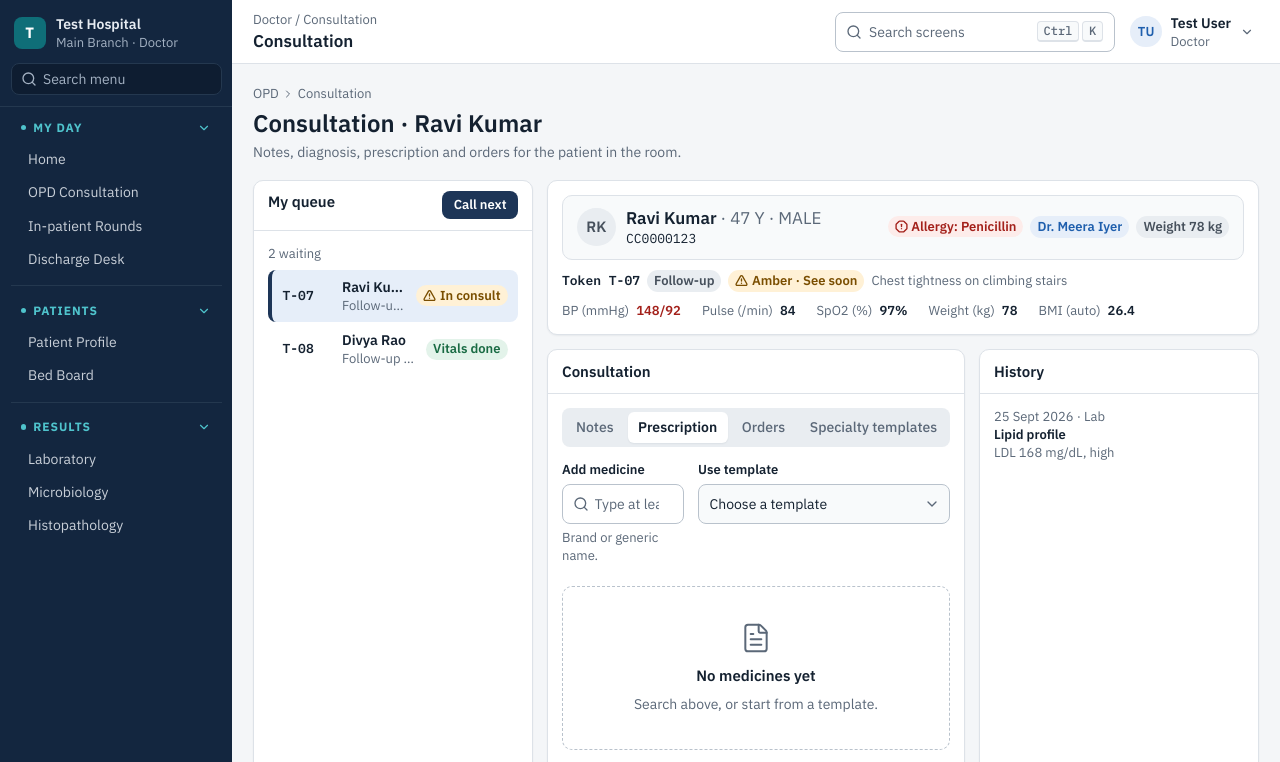
it: Consultation › adds a medicine from the formulary and shows the allergy warning the save returns
This screenshot has width=1280, height=762.
Type "amox" into the search field labelled "Add medicine" at [623, 504], box [562,484,684,524]
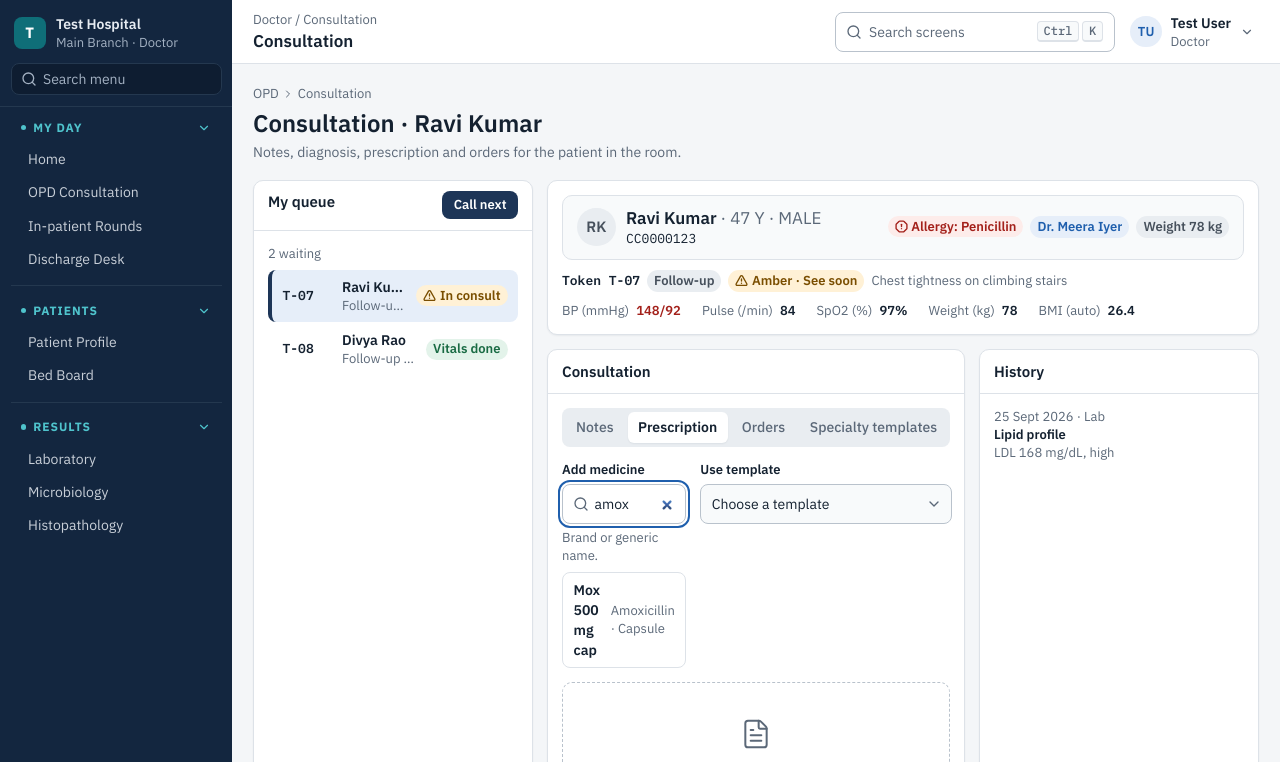
Click the button "Mox 500 mg cap Amoxicillin · Capsule" at [624, 620], box [563,573,685,667]
(page scrolled)
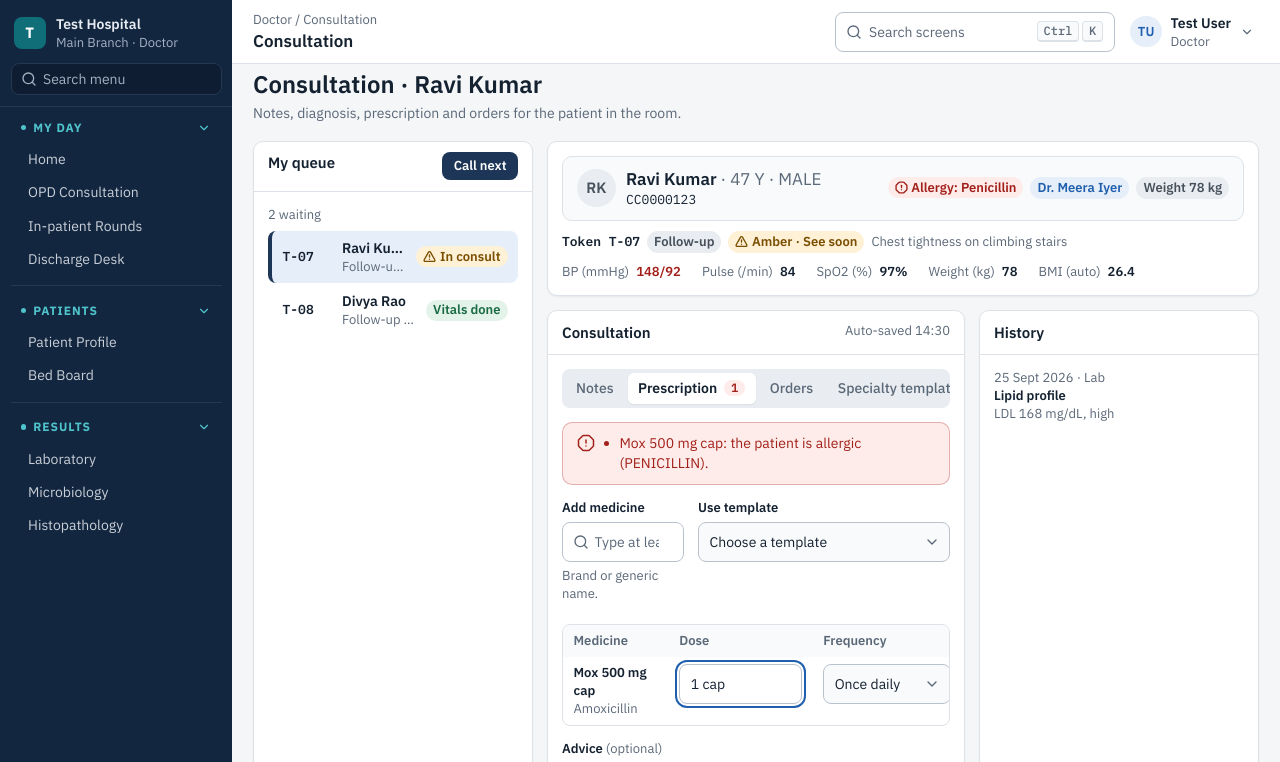
Expected: the list item "Mox 500 mg cap: the patient is allergic (PENICILLIN)." is shown, [620,434,861,472]
